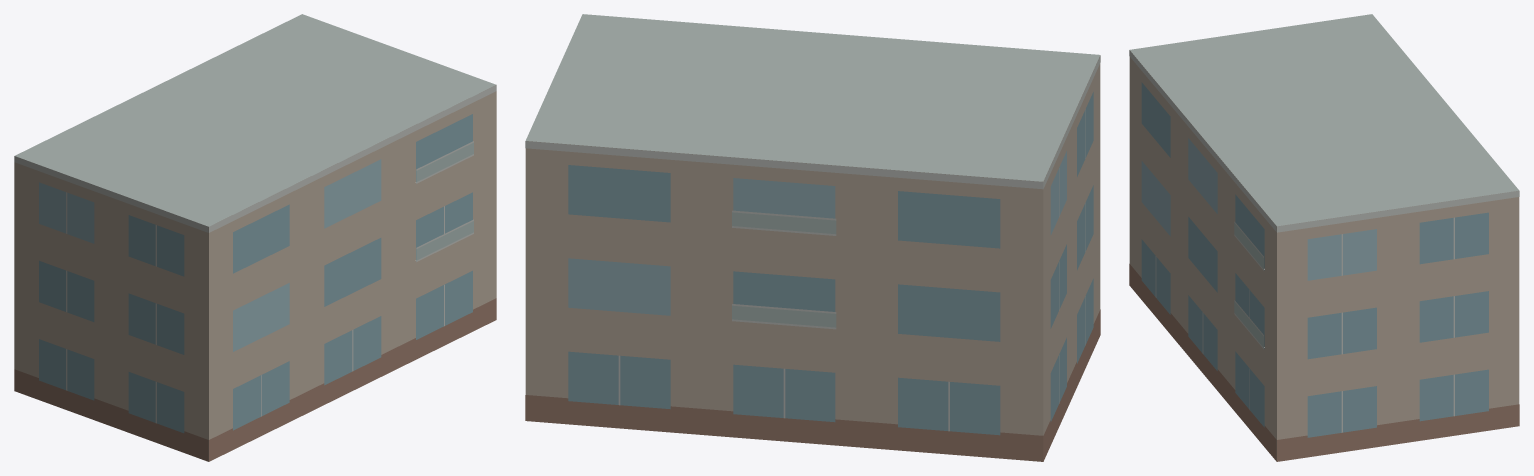
File: survey-upis-32702952.glb
3 views of the same model, side by side, from view 1: azimuth 30°, elevation 25°; view 2: azimuth 150°, elevation 25°; view 3: azimuth 270°, elevation 25° (orthographic). The views are drawn at different scales.
Parts seen in each view (by area): view 1: survey-upis-32702952.tmp; view 2: survey-upis-32702952.tmp; view 3: survey-upis-32702952.tmp.
Boxes of the visible parts, x1=… form: survey-upis-32702952.tmp: x1=14, y1=14, x2=496, y2=461; survey-upis-32702952.tmp: x1=525, y1=14, x2=1100, y2=461; survey-upis-32702952.tmp: x1=1129, y1=14, x2=1519, y2=461.
Size of the model in its own units: 17.7 by 9.15 by 13.74.
